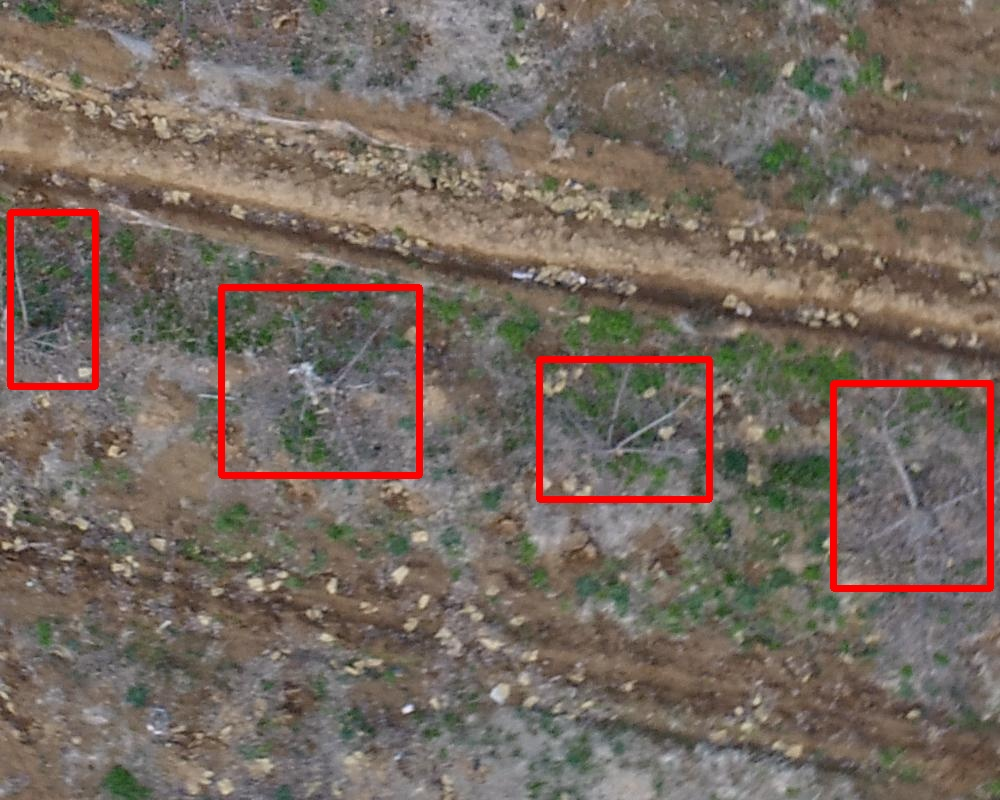apple: (221, 287, 419, 475), (833, 383, 990, 588), (539, 359, 709, 499), (10, 212, 95, 386)
